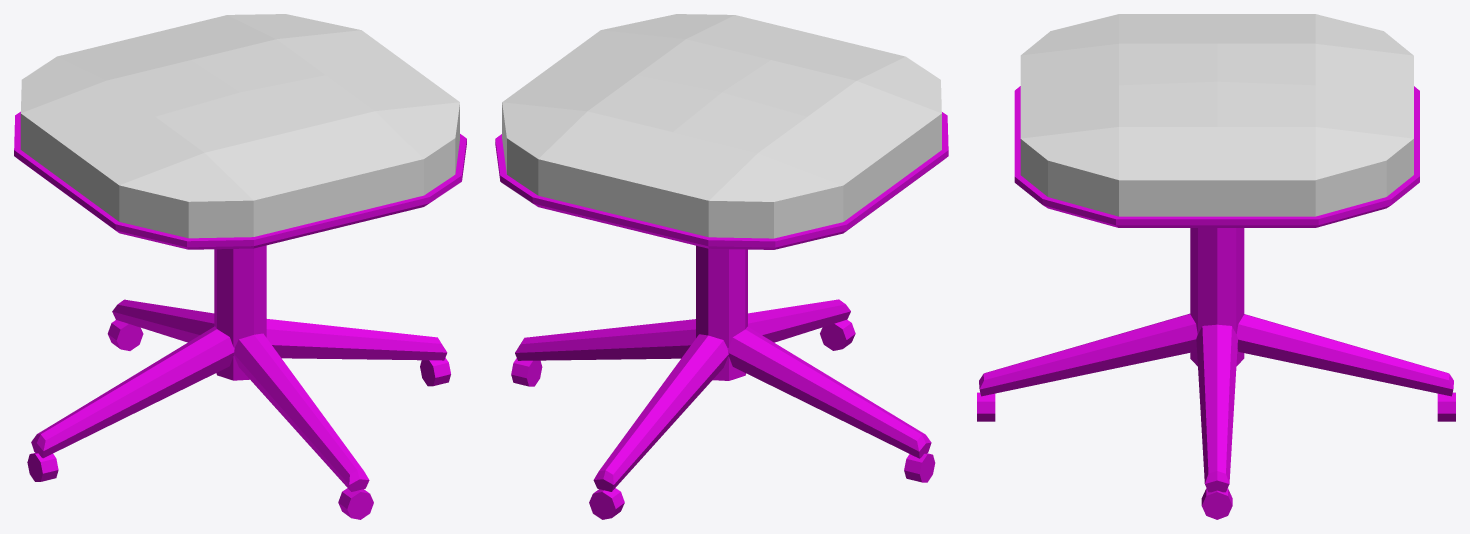
3 renders of one model, left to right at view 1: azimuth 30°, elevation 25°; view 2: azimuth 150°, elevation 25°; view 3: azimuth 270°, elevation 25°, orthographic.
Parts seen in each view (by area): view 1: M_ChairBase; view 2: M_ChairBase; view 3: M_ChairBase.
Part boxes in pixels (x1=…): M_ChairBase: x1=14, y1=14, x2=466, y2=519; M_ChairBase: x1=495, y1=14, x2=948, y2=519; M_ChairBase: x1=977, y1=14, x2=1455, y2=519.
Size of the model in its own units: 240 by 190 by 243.
